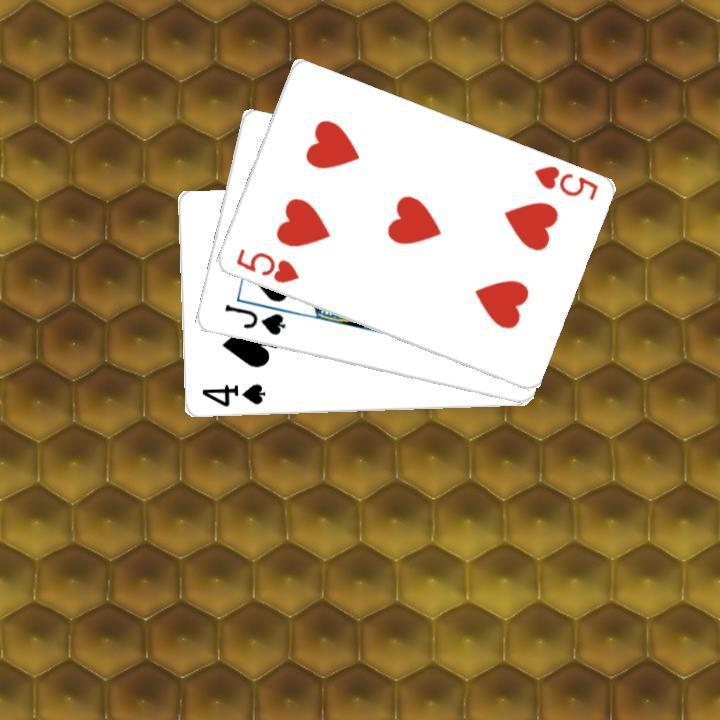4: (196, 380, 267, 410)
5: (528, 161, 599, 203), (231, 244, 301, 286)
J: (220, 300, 287, 338)
